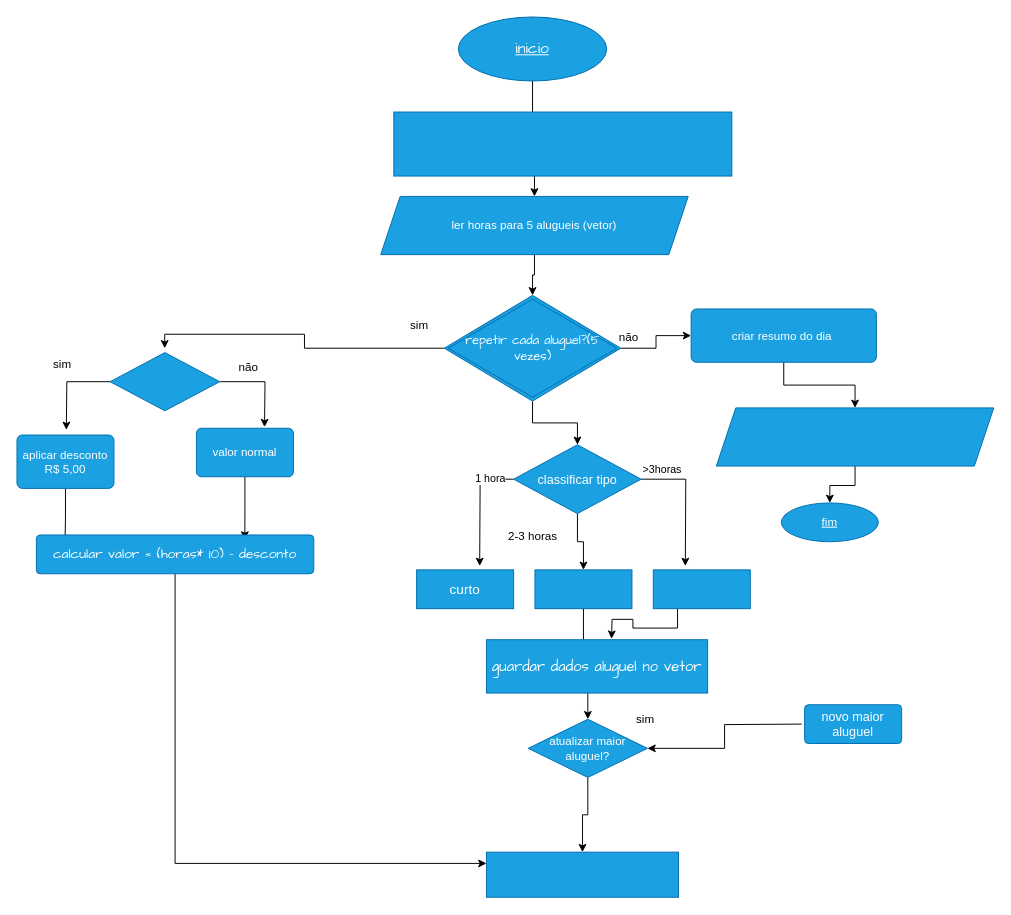
Some shapes in this 1011 by 915 pixel diagram are drawn without their labels. The centre of each missing label's shape, as x and y in pixels:
"acumular valor no total arrecadado e contadores" belongs at [582,874].
"Duração 3 horas?" belongs at [164,381].
"inicializar variáveis (total Arrecadado, contadores,vetorhoras,maiorAluguel)" belongs at [562,143].
"longo" belongs at [701,589].
"mostrar resumo (total,tipos, mais longo" belongs at [854,436].
"médio" belongs at [583,589].
